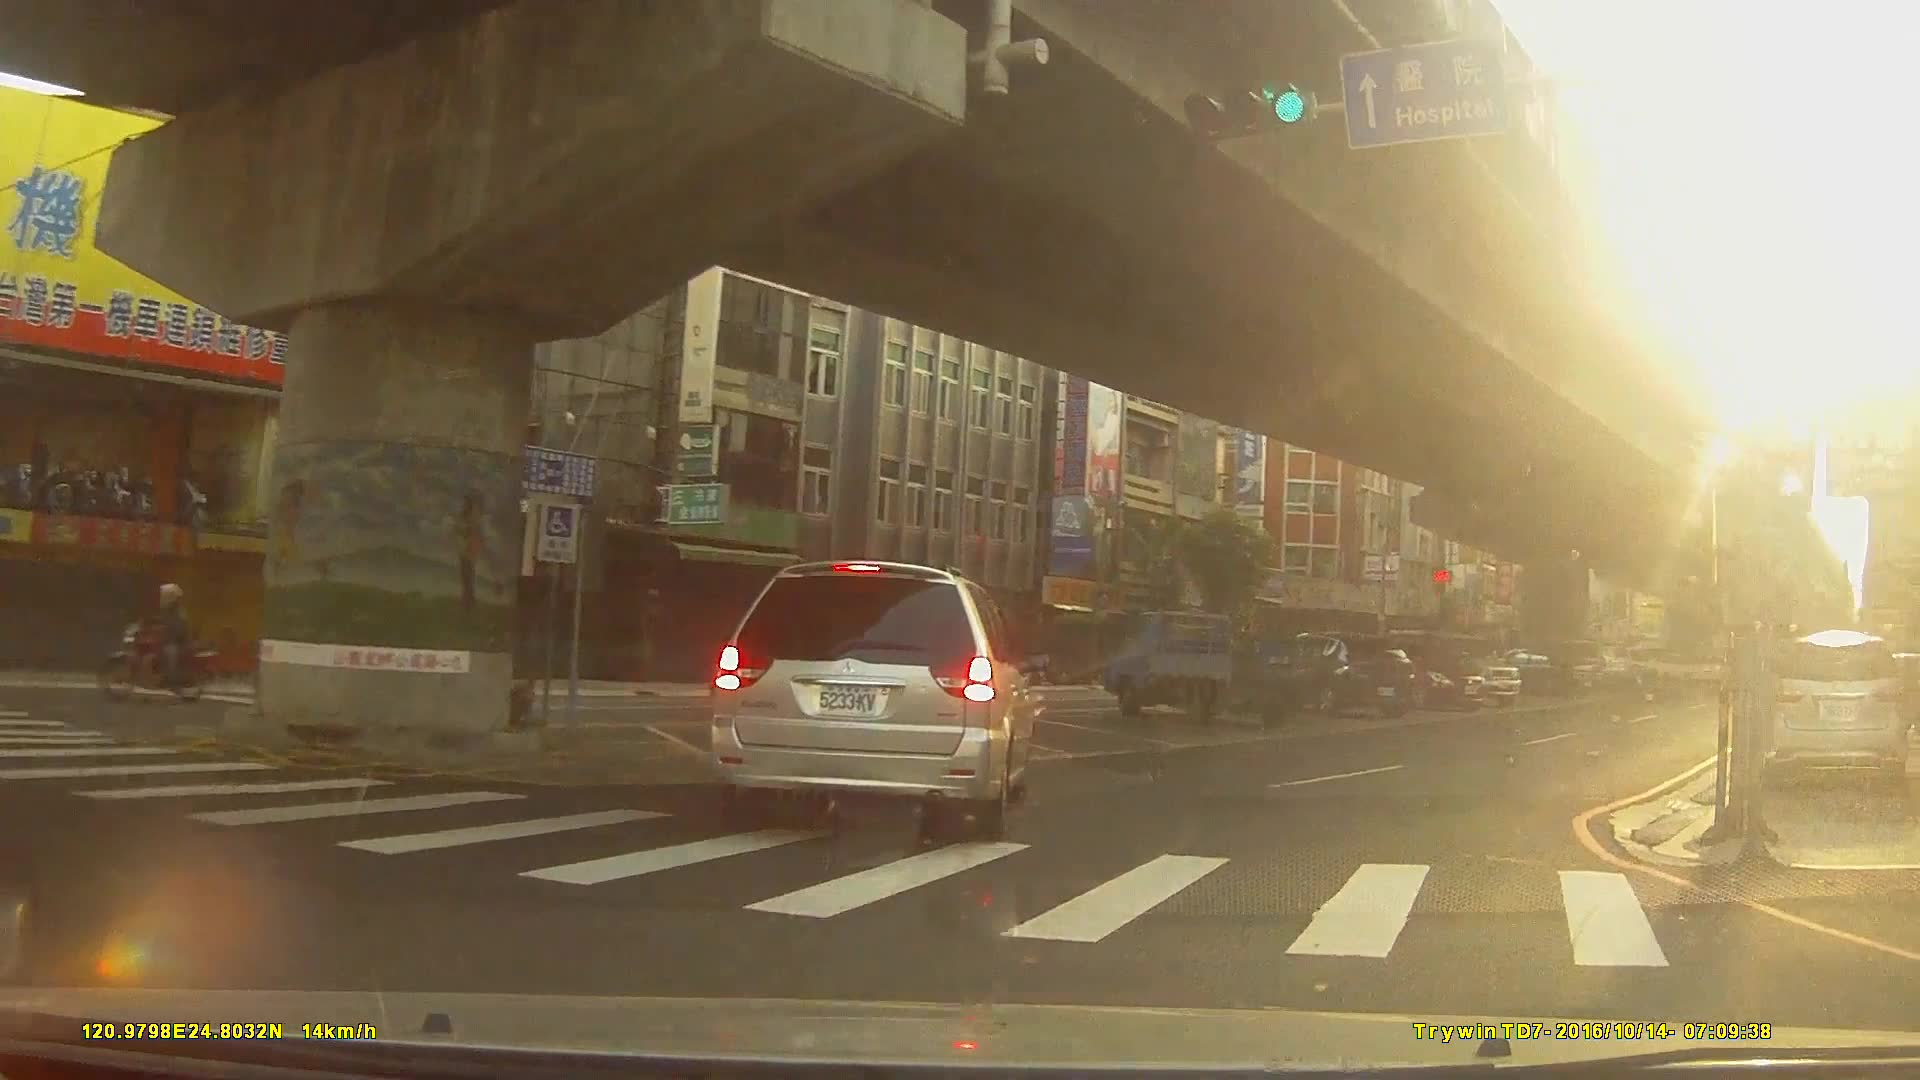rider: (99, 585, 225, 707), (705, 620, 769, 700)
vehicle: (708, 559, 1033, 846), (1100, 607, 1318, 725), (1764, 632, 1904, 797), (1269, 629, 1414, 717), (1348, 637, 1488, 711), (1479, 650, 1573, 699)
